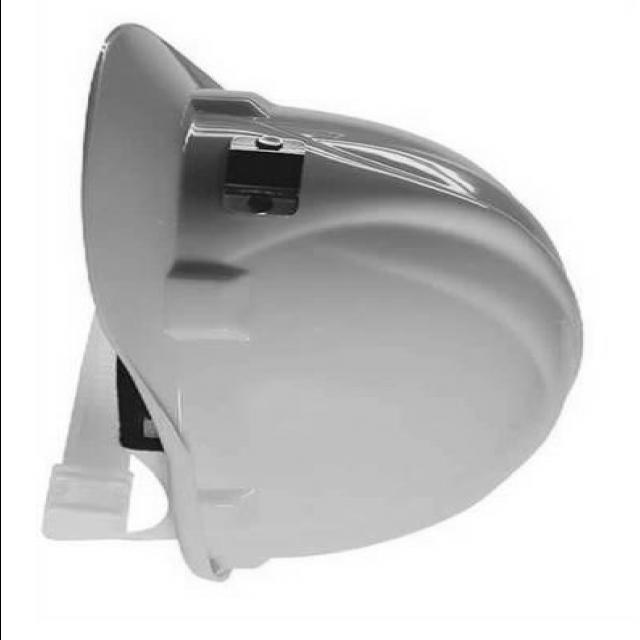safety_helmet: (76, 24, 582, 583)
